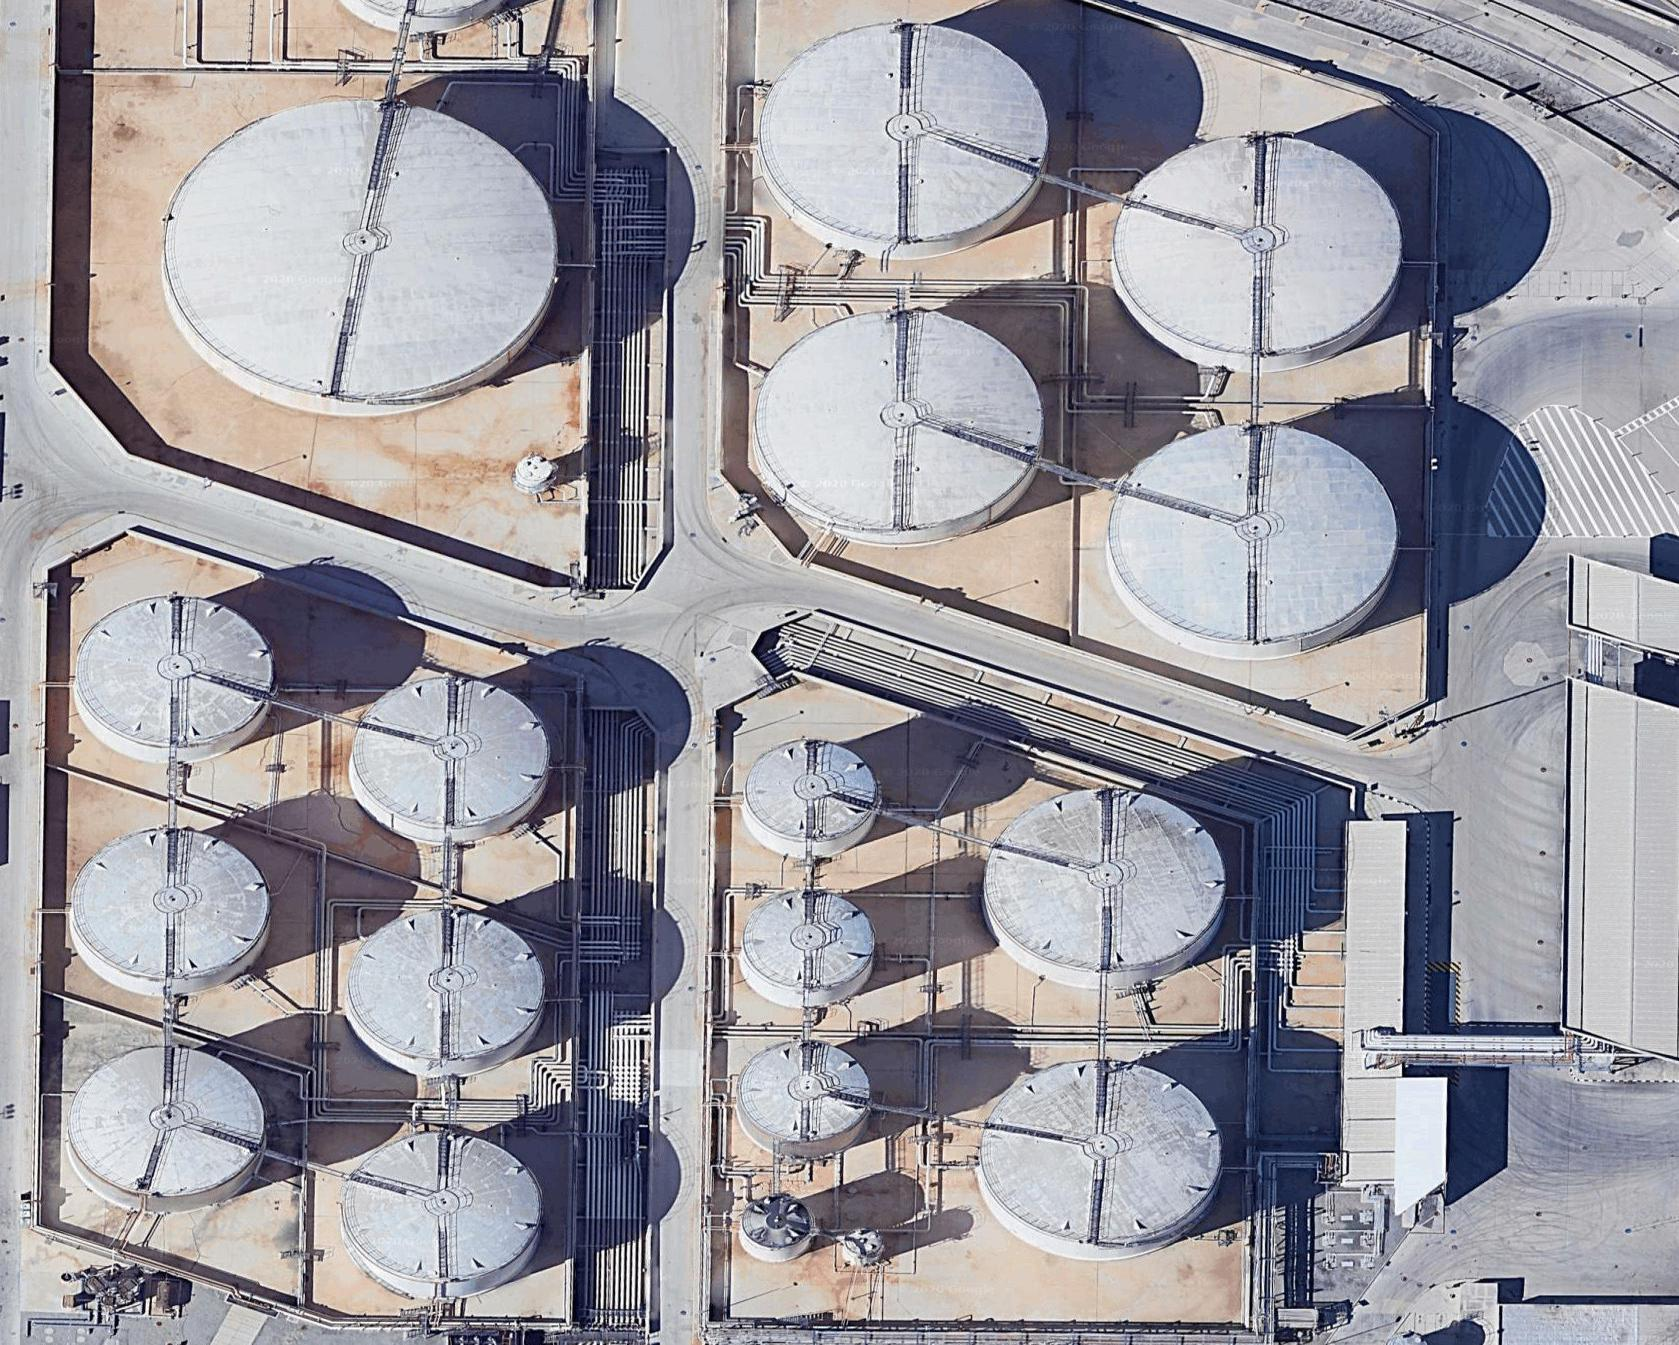storage-tank: (135, 77, 596, 436), (1104, 124, 1398, 375), (1100, 419, 1402, 663), (759, 296, 1045, 548), (765, 16, 1058, 243), (971, 1053, 1223, 1263), (982, 775, 1223, 992), (328, 1120, 540, 1305), (346, 666, 564, 839), (65, 818, 276, 995), (73, 590, 275, 766), (340, 902, 538, 1072), (67, 1040, 270, 1202), (733, 733, 883, 850), (734, 888, 876, 1005), (730, 1042, 872, 1146), (730, 1183, 820, 1267), (833, 1220, 895, 1270)
